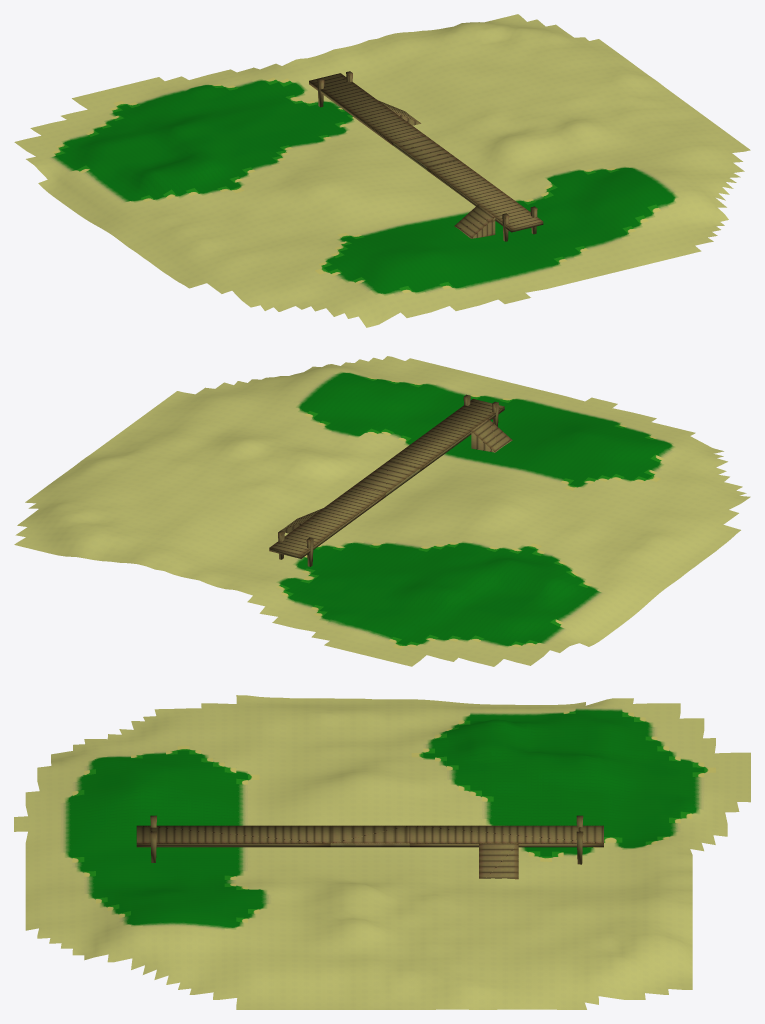
Rendered from map_33.fbx.
3 views of the same model, one above another, from view 1: azimuth 30°, elevation 25°; view 2: azimuth 150°, elevation 25°; view 3: azimuth 270°, elevation 25° (orthographic). The views are drawn at different scales.
Parts seen in each view (by area): view 1: Plane.001; view 2: Plane.001; view 3: Plane.001.
Boxes of the visible parts, left/top/right/bottom form: Plane.001: left=14, top=14, right=750, bottom=327; Plane.001: left=14, top=356, right=750, bottom=666; Plane.001: left=14, top=695, right=750, bottom=1009.
Bounding box in the file's own units: 128 × 8.63 × 126.
8 materials, 8 textured.
